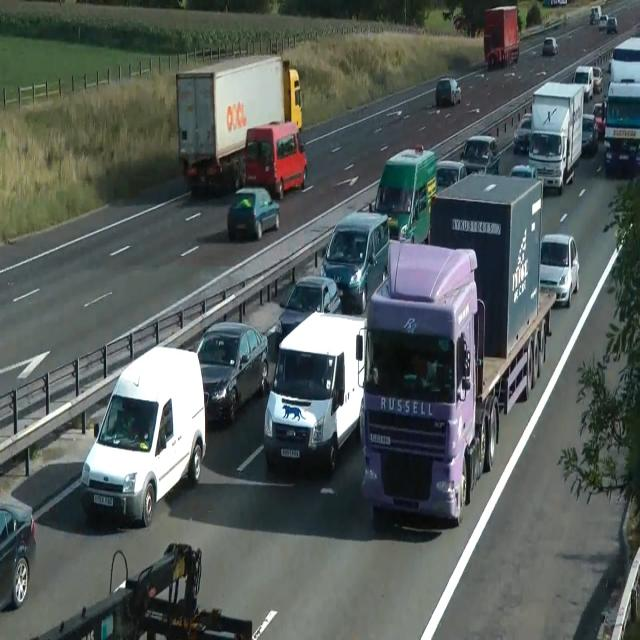bus: (192, 320, 268, 425), (275, 274, 341, 348), (0, 499, 36, 612), (539, 233, 579, 307), (227, 187, 279, 241), (435, 160, 467, 194), (435, 76, 461, 106), (580, 113, 598, 155), (513, 113, 531, 154), (592, 102, 606, 138), (509, 164, 537, 178), (542, 37, 558, 55), (592, 66, 603, 92), (588, 5, 602, 25), (606, 17, 617, 33), (598, 15, 608, 30)
car: (31, 542, 253, 638)
jeep: (80, 343, 206, 527), (263, 308, 366, 474), (320, 210, 390, 313), (242, 120, 308, 199), (460, 133, 500, 175), (572, 64, 594, 100)
minibus: (357, 172, 556, 526), (428, 172, 543, 360), (175, 53, 303, 195), (371, 143, 437, 245), (528, 81, 584, 194), (603, 81, 639, 174), (483, 5, 519, 70), (283, 59, 303, 132), (609, 36, 639, 84), (542, 0, 568, 7)
